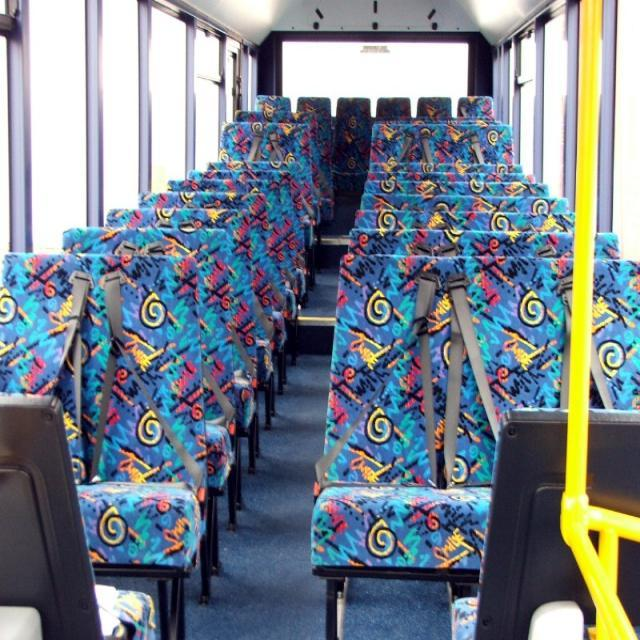Fire: (554, 382, 640, 635)
